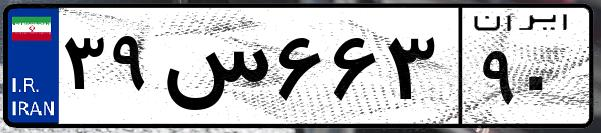0: (525, 38, 570, 115)
3: (385, 28, 445, 110), (57, 26, 110, 100)
6: (270, 28, 330, 110), (330, 28, 385, 110)
9: (475, 38, 525, 113), (110, 28, 158, 98)
س: (158, 20, 270, 120)
